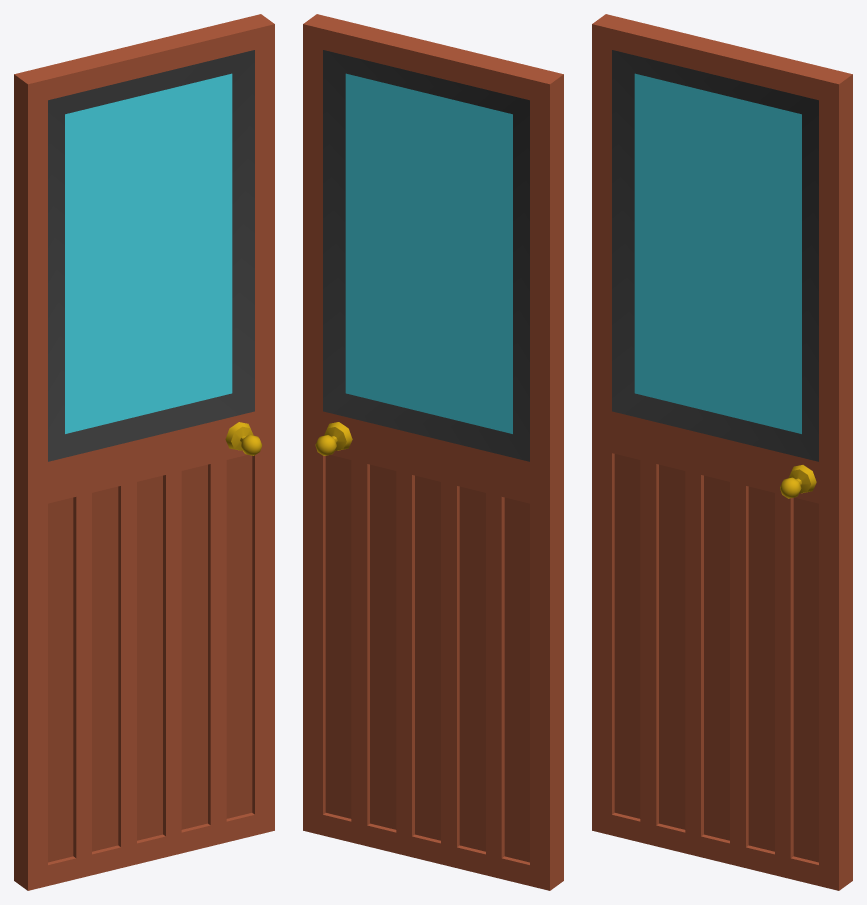
File: SM_Buildings_House_03_Door_L.fbx
The picture shows the model from 3 angles, left to right: view 1: azimuth 30°, elevation 25°; view 2: azimuth 150°, elevation 25°; view 3: azimuth 330°, elevation 25°; orthographic projection.
Visible parts, largest first — view 1: SM_Buildings_House_03_Door_L; view 2: SM_Buildings_House_03_Door_L; view 3: SM_Buildings_House_03_Door_L.
Boxes of the visible parts, x1,y1,x2,y2 form: SM_Buildings_House_03_Door_L: (14,14,274,890); SM_Buildings_House_03_Door_L: (303,14,563,890); SM_Buildings_House_03_Door_L: (592,14,852,890).
Bounding box in the file's own units: 0.6195 × 1.93 × 0.2172.
